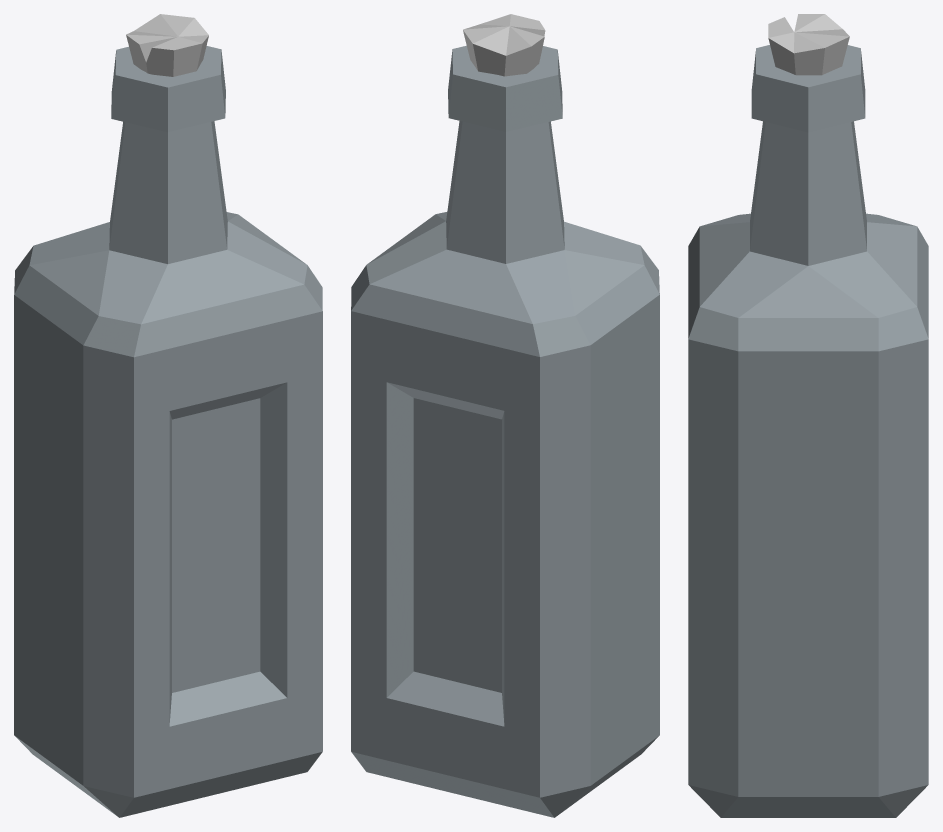
File: MeadBottle.fbx
The picture shows the model from 3 angles, left to right: view 1: azimuth 30°, elevation 25°; view 2: azimuth 150°, elevation 25°; view 3: azimuth 270°, elevation 25°; orthographic projection.
Visible parts, largest first — view 1: SM_Item_Bottle_04; view 2: SM_Item_Bottle_04; view 3: SM_Item_Bottle_04.
Boxes of the visible parts, bbox=[...] form: SM_Item_Bottle_04: bbox=[14, 14, 322, 817]; SM_Item_Bottle_04: bbox=[351, 14, 659, 817]; SM_Item_Bottle_04: bbox=[688, 14, 928, 817].
Bounding box in the file's own units: 14.2 × 41.52 × 12.22.
